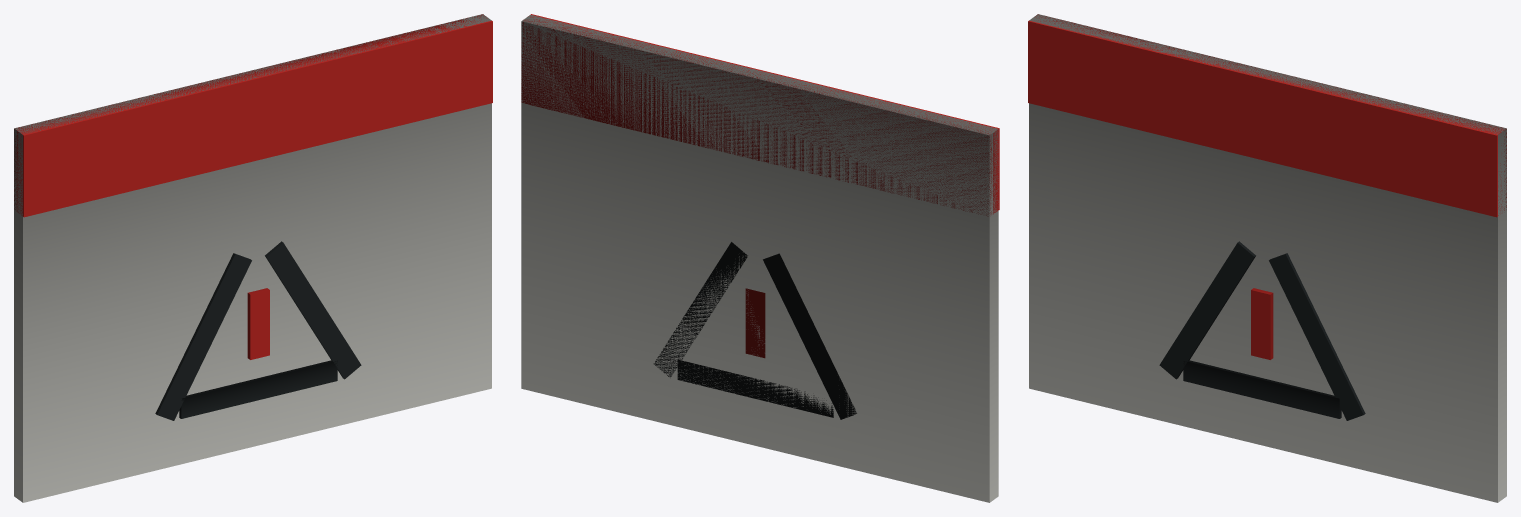
File: hazard_sign.glb
The picture shows the model from 3 angles, left to right: view 1: azimuth 30°, elevation 25°; view 2: azimuth 150°, elevation 25°; view 3: azimuth 330°, elevation 25°; orthographic projection.
Visible parts, largest first — view 1: HazardSign; view 2: HazardSign; view 3: HazardSign.
Boxes of the visible parts, bbox=[...] form: HazardSign: bbox=[14, 14, 492, 502]; HazardSign: bbox=[521, 14, 999, 502]; HazardSign: bbox=[1028, 14, 1506, 502].
Bounding box in the file's own units: 0.6 × 0.45 × 0.026.
